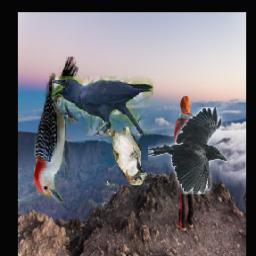Crow: (147, 107, 227, 194), (52, 77, 153, 137)
Sparrow: (106, 114, 146, 185)
Woodpecker: (33, 58, 78, 204)
